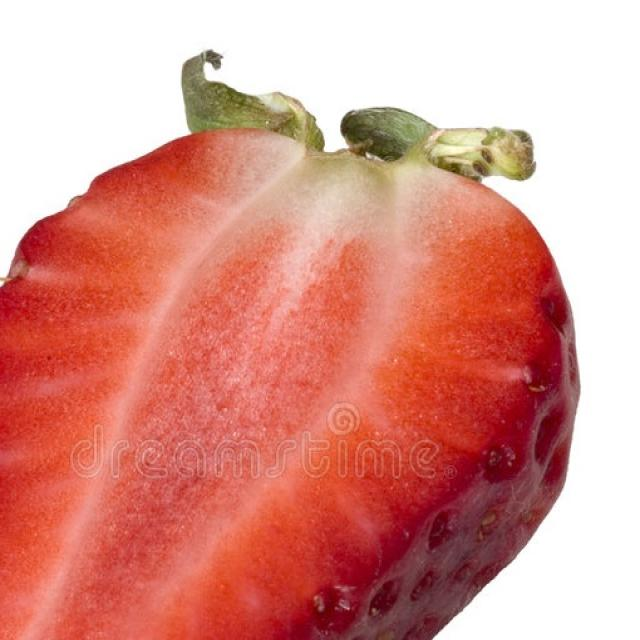strawberry: (0, 61, 570, 640)
